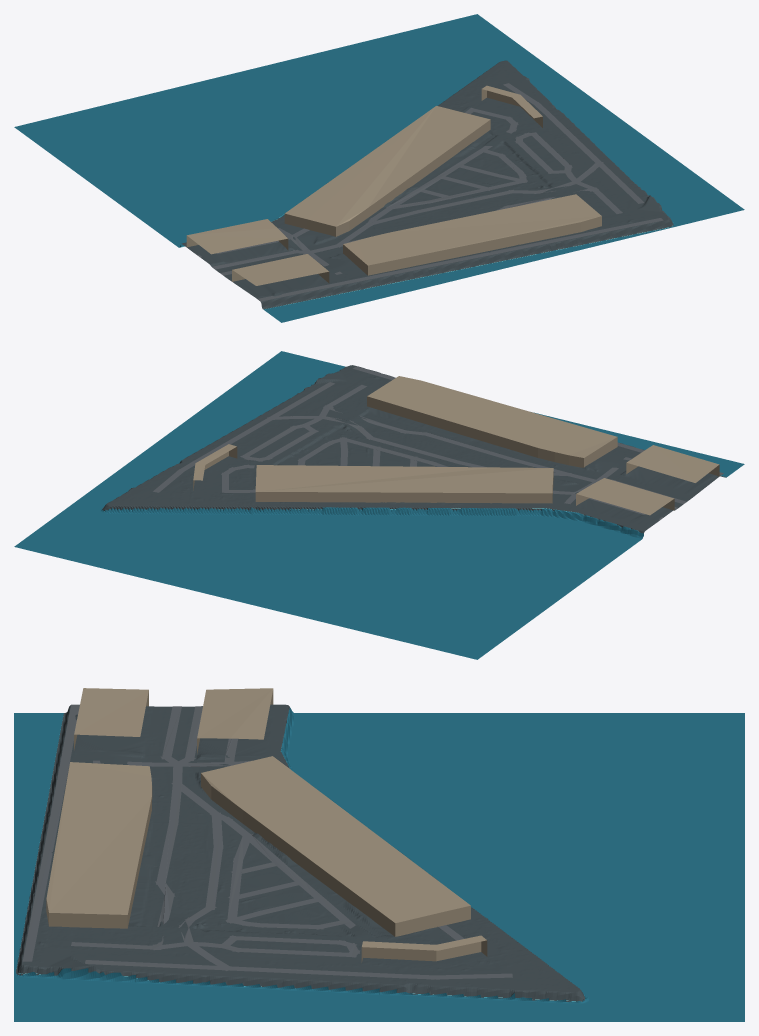
Rendered from epsg26910-1443-10887.lod0.glb.
3 renders of one model, top to bottom at view 1: azimuth 30°, elevation 25°; view 2: azimuth 150°, elevation 25°; view 3: azimuth 270°, elevation 25°, orthographic. The views are drawn at different scales.
Visible parts, largest first — view 1: epsg26910-1443-10887-lod0; view 2: epsg26910-1443-10887-lod0; view 3: epsg26910-1443-10887-lod0.
Part boxes in pixels (bbox=[...]): epsg26910-1443-10887-lod0: bbox=[14, 14, 744, 322]; epsg26910-1443-10887-lod0: bbox=[14, 351, 744, 659]; epsg26910-1443-10887-lod0: bbox=[14, 688, 744, 1021].
Bounding box in the file's own units: 384 × 14.6 × 384.
